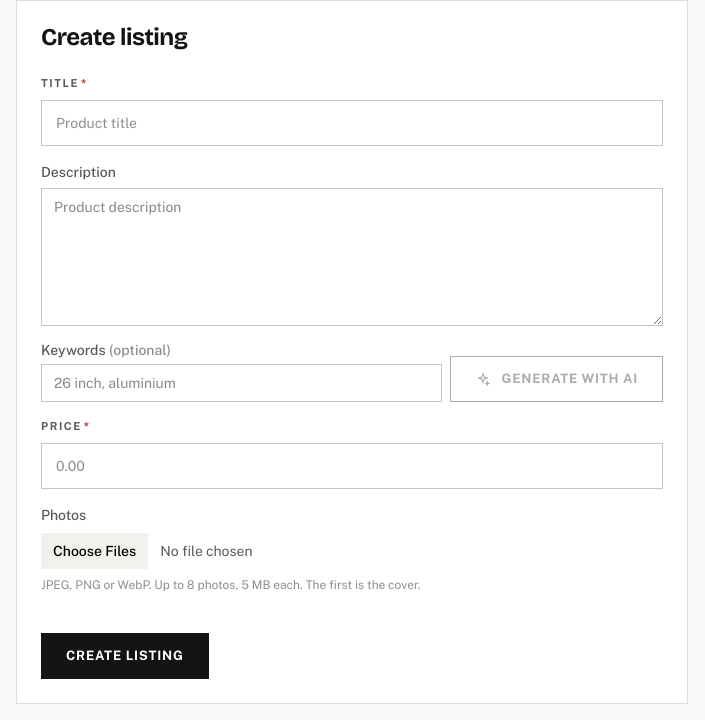
Test: M10 — a blank submit shows one error summary › wires an invalid (non-empty) price's own message to the Price field
In the field labelled "Title*": x=352, y=123 [41,100,663,146], type "Mountain bike"
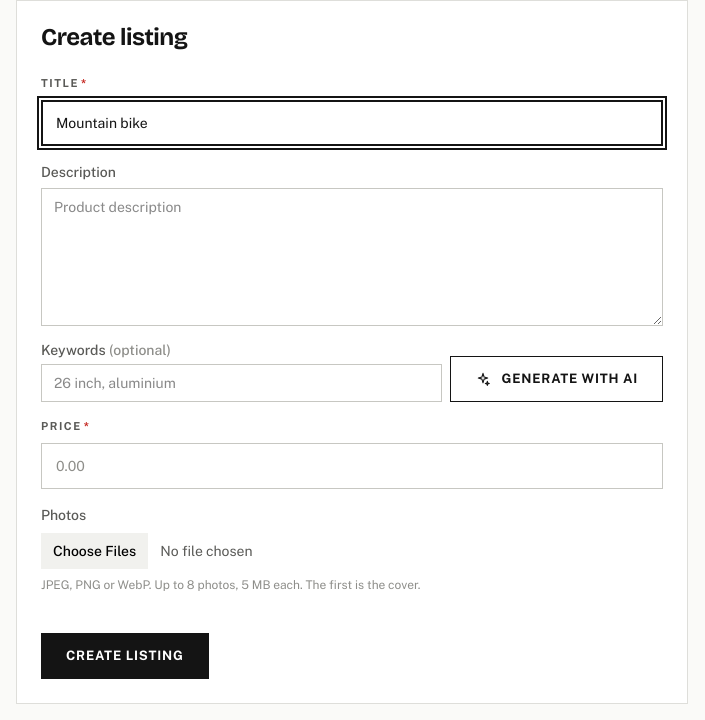
In the text box labelled "Description": x=352, y=257 [41,188,663,326], type "A well-loved aluminium mountain bike, ready for the trails."
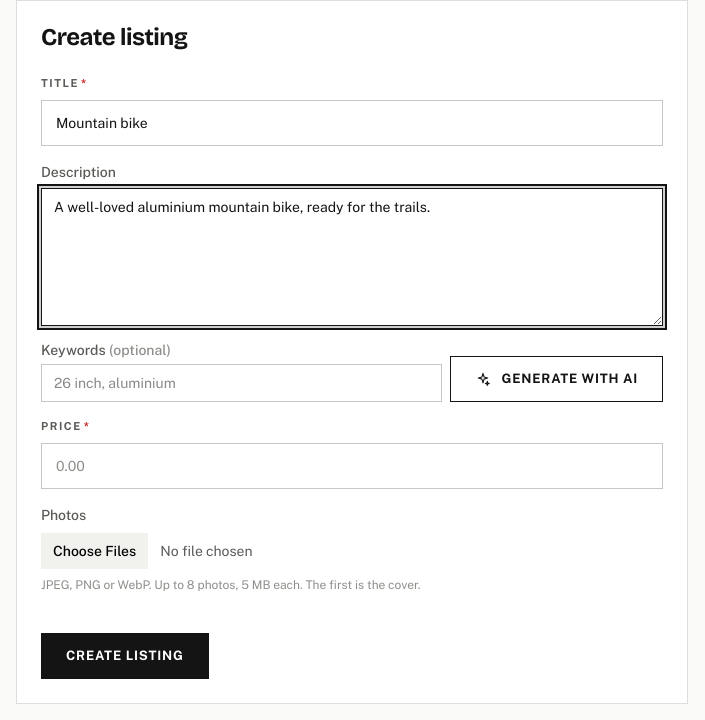
In the field labelled "Price*": x=352, y=466 [41,443,663,489], type "abc"
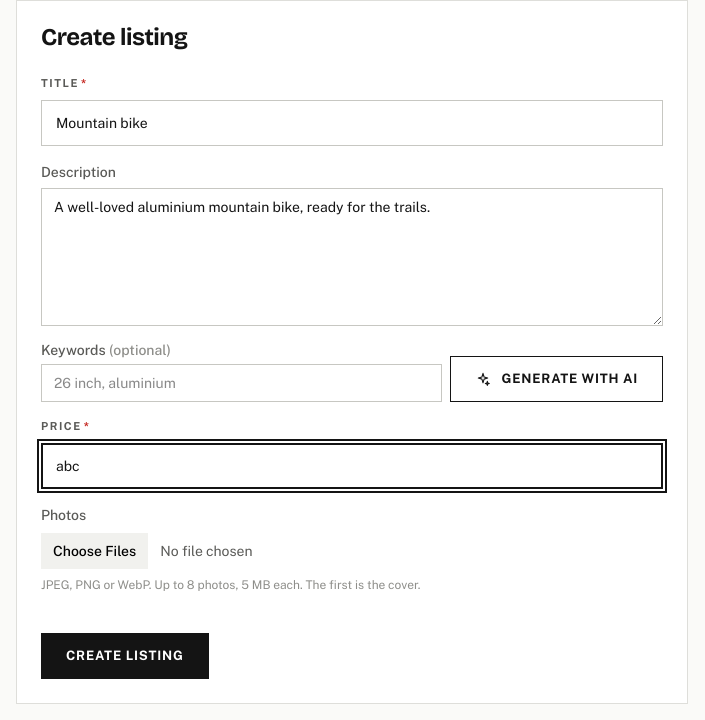
Click the button "Create listing": x=125, y=656 [41,633,209,679]
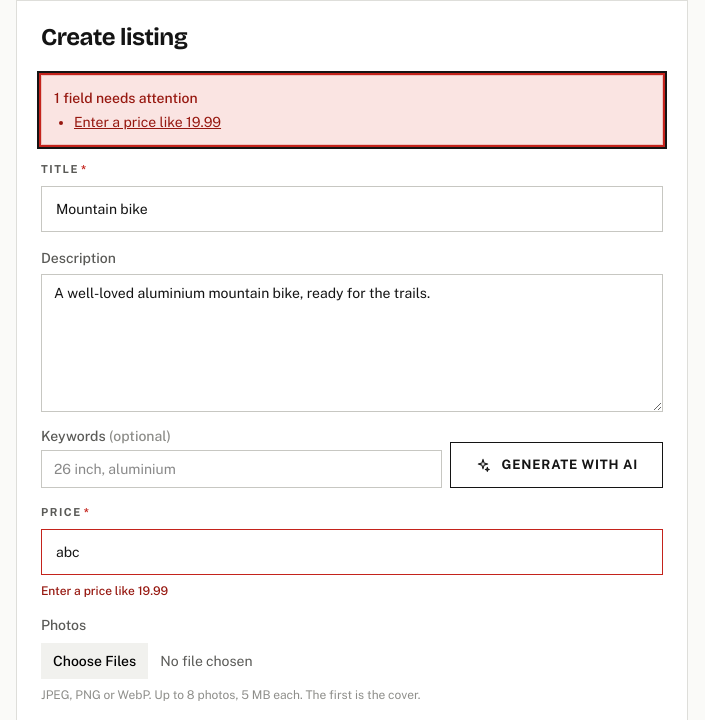
expect the message "Enter a price like 19.99" is shown: met, box [41,584,168,598]
